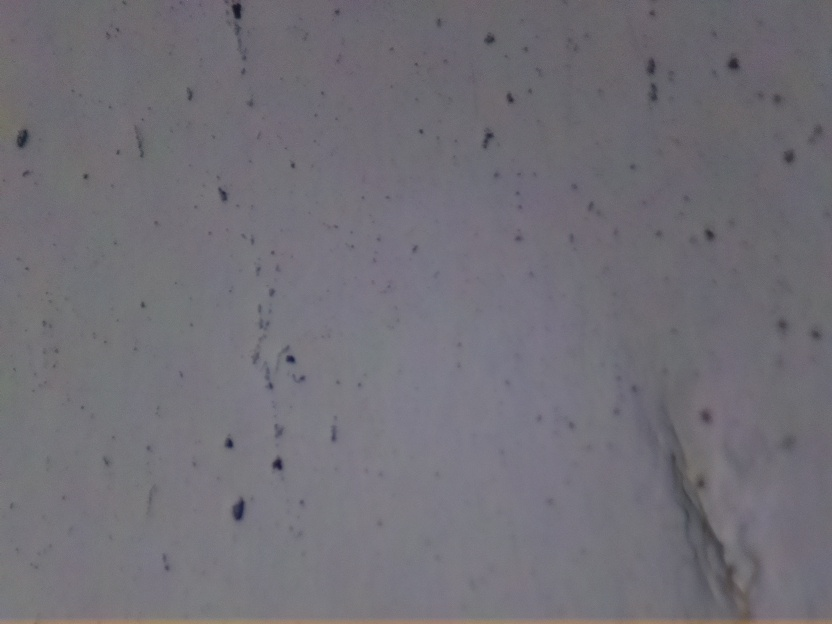crack: (661, 400, 767, 624)
